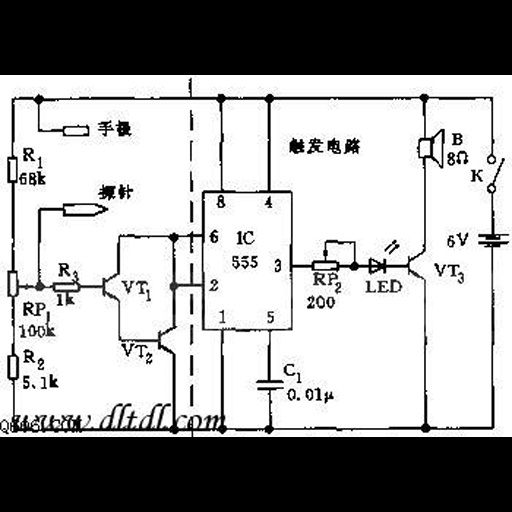battery: (474, 227, 510, 255)
capacitor: (251, 370, 284, 396)
firstresistance: (48, 278, 86, 294), (3, 153, 20, 185), (5, 352, 20, 383)
loudspeaker: (409, 122, 447, 170)
npn: (403, 241, 429, 287), (152, 322, 182, 359)
secondled: (366, 231, 402, 276)
